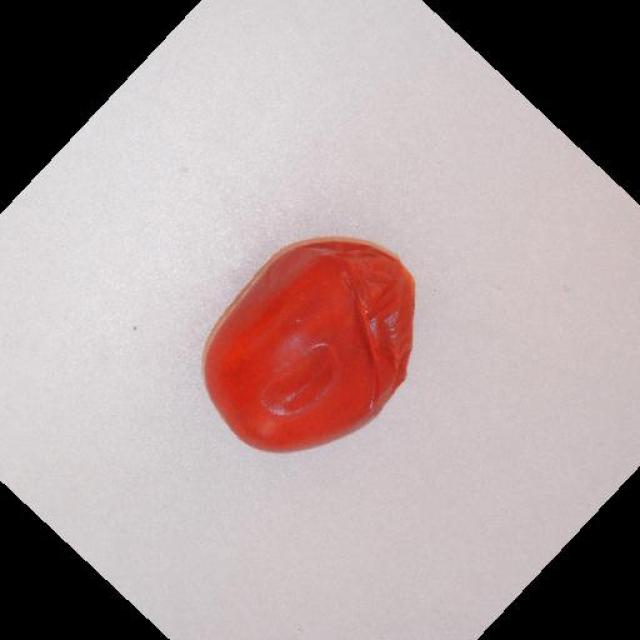Stale_tomato: (188, 234, 444, 456)
